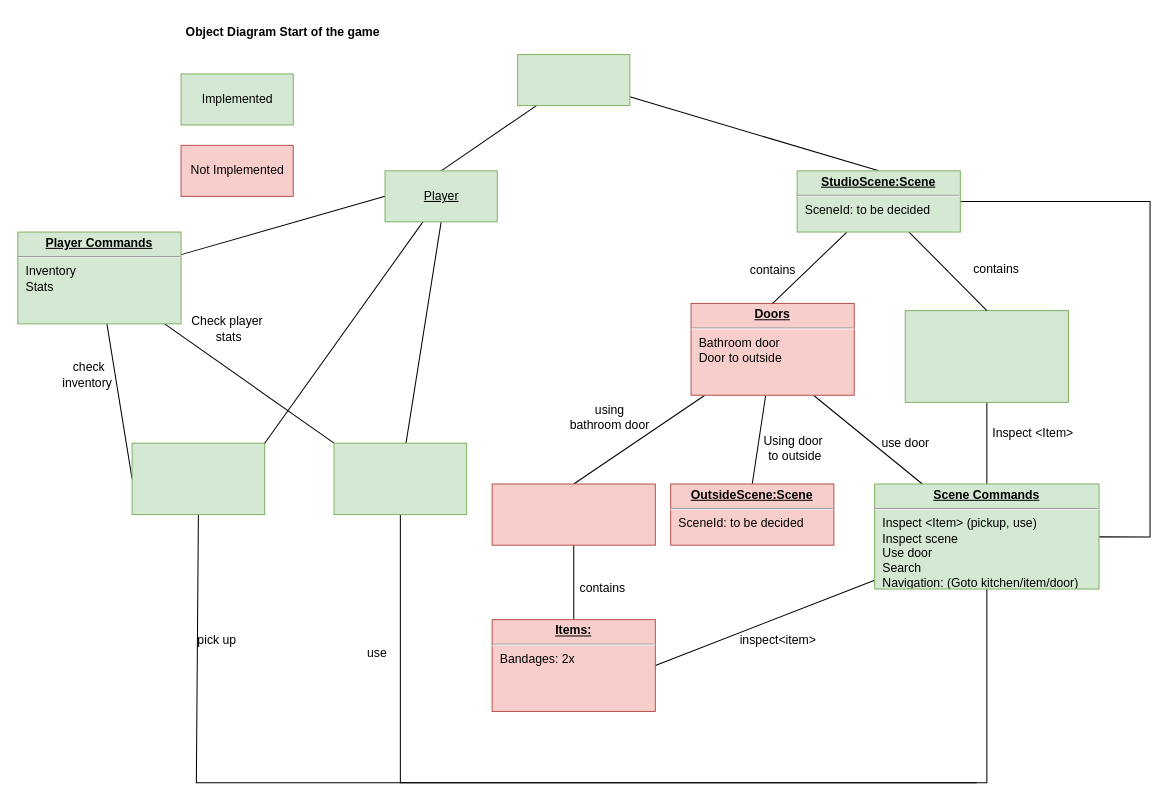
Some shapes in this 1169 by 802 pixel diagram are drawn without their labels. The centre of each missing label's shape, as x and y in pixels:
"BathroomScene:Scene SceneId: to be decided" goes at pixel 573 514.
"Game" goes at pixel 573 80.
"Inventroy Phone: 1 Cigarettes: 5" goes at pixel 198 478.
"Items Noodles Phone Cigarettes" goes at pixel 986 356.
"Player Stats:Stats HealthPoints: 50/100" goes at pixel 400 478.
